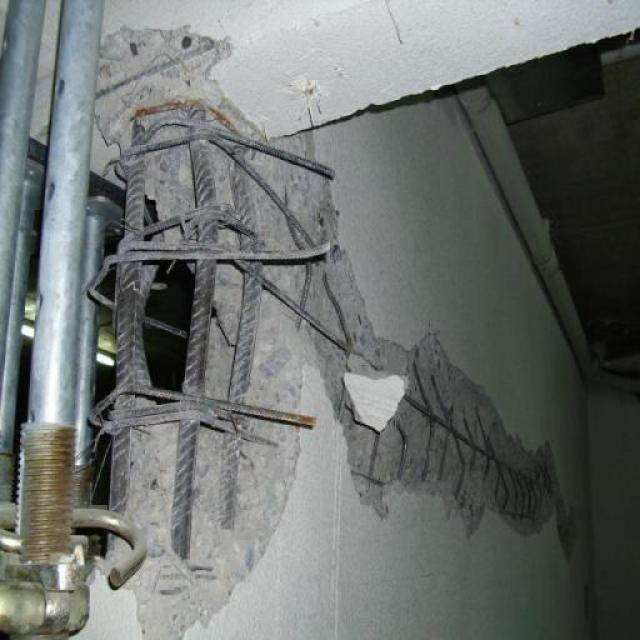D0w0: (85, 22, 576, 639)
